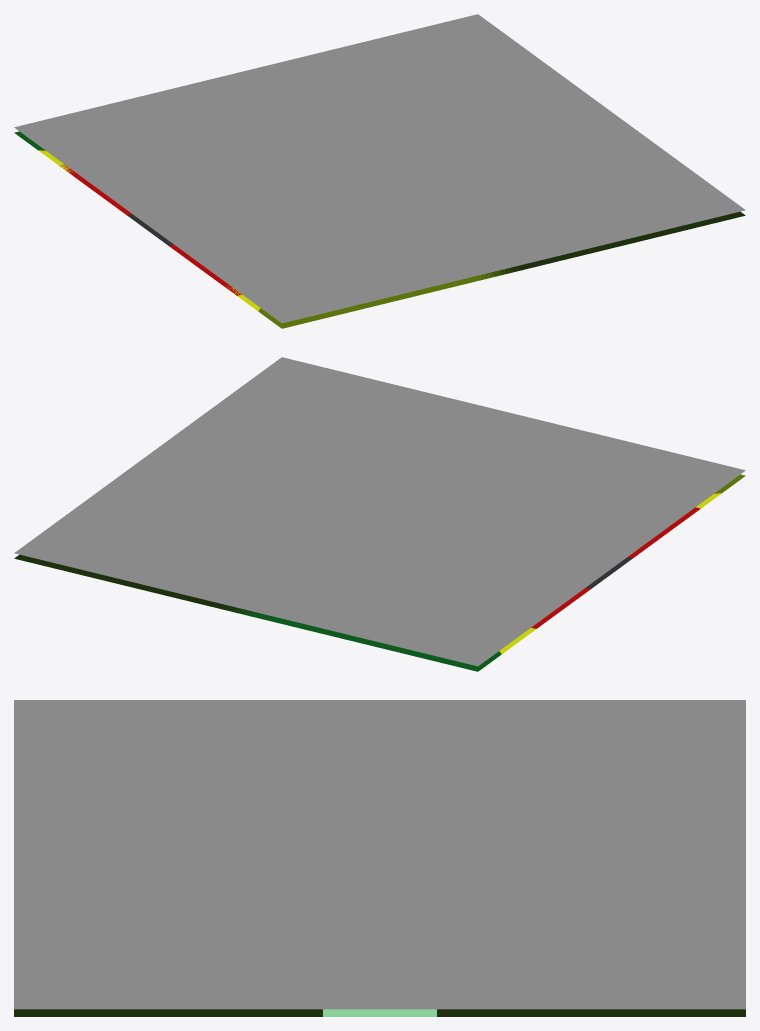
Rendered from RT LINE V01 T04 SNAP.FBX.
The picture shows the model from 3 angles, top to bottom: view 1: azimuth 30°, elevation 25°; view 2: azimuth 150°, elevation 25°; view 3: azimuth 270°, elevation 25°; orthographic projection. The views are drawn at different scales.
Visible parts, largest first — view 1: RT LINE V01 T04 SNAP, RT LINE V01 T04, RT LINE V01 NAV Grass.Conc, RT LINE V01 NAV ColAsp C03, RT LINE V01 NAV ColAsp C01-C02; view 2: RT LINE V01 T04 SNAP, RT LINE V01 NAV Grass, RT LINE V01 T04; view 3: RT LINE V01 T04 SNAP, RT LINE V01 T04.
Boxes of the visible parts, x1=… form: RT LINE V01 T04 SNAP: x1=14, y1=14, x2=745, y2=323; RT LINE V01 T04: x1=476, y1=211, x2=745, y2=279; RT LINE V01 NAV Grass.Conc: x1=258, y1=267, x2=517, y2=328; RT LINE V01 NAV ColAsp C03: x1=60, y1=164, x2=241, y2=295; RT LINE V01 NAV ColAsp C01-C02: x1=74, y1=175, x2=228, y2=285; RT LINE V01 T04 SNAP: x1=14, y1=357, x2=745, y2=666; RT LINE V01 NAV Grass: x1=223, y1=607, x2=501, y2=671; RT LINE V01 T04: x1=14, y1=554, x2=259, y2=618; RT LINE V01 T04 SNAP: x1=14, y1=700, x2=745, y2=1009; RT LINE V01 T04: x1=14, y1=1009, x2=745, y2=1016.
Size of the model in its own units: 90 by 1 by 90.
